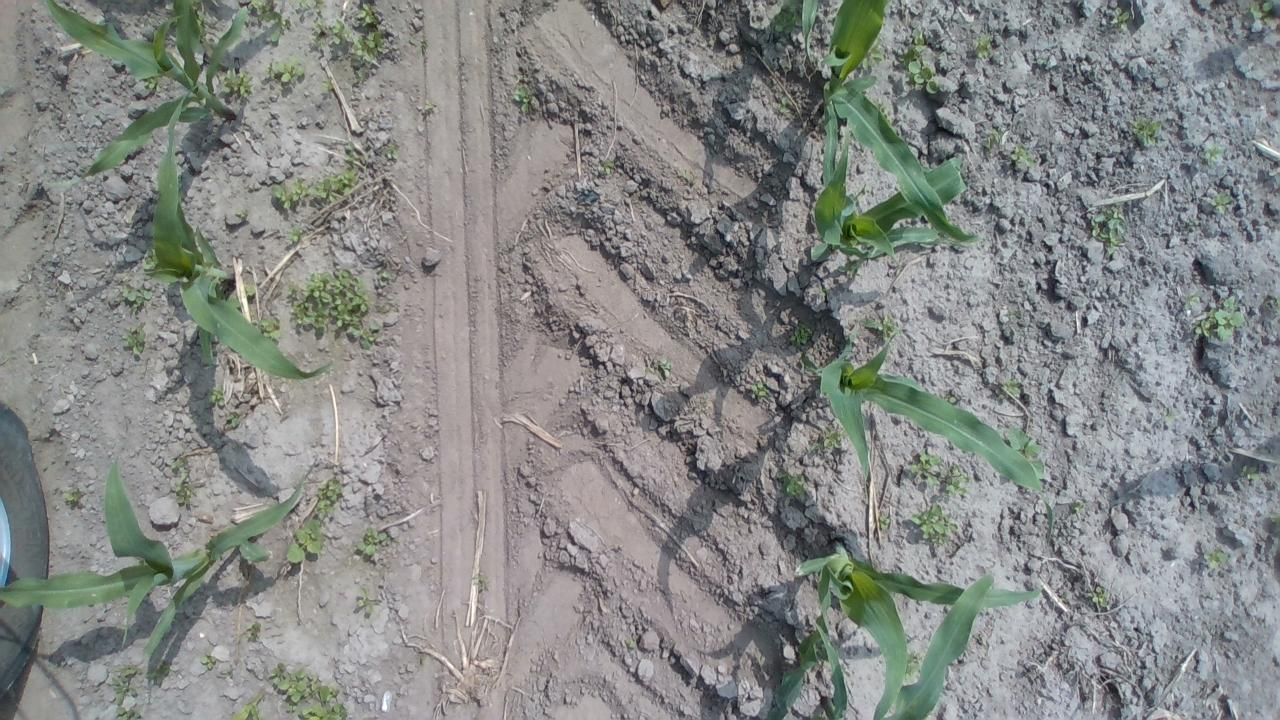Maize: (6, 448, 334, 712), (134, 95, 346, 390), (766, 537, 1062, 720), (801, 317, 1049, 504), (45, 1, 284, 188), (809, 2, 986, 245), (798, 144, 986, 258)
Weeds: (289, 268, 378, 352), (269, 170, 359, 210), (1182, 290, 1244, 347), (897, 28, 942, 96), (242, 0, 294, 48), (1002, 426, 1050, 478), (350, 28, 392, 84), (1089, 203, 1131, 251), (110, 662, 144, 720), (269, 664, 317, 704), (908, 505, 956, 543), (298, 686, 351, 720), (290, 520, 326, 569), (168, 454, 198, 512), (264, 55, 306, 92), (312, 474, 344, 518), (356, 525, 396, 560), (906, 450, 940, 490), (1128, 112, 1163, 148), (219, 68, 255, 102), (860, 315, 902, 344), (118, 324, 150, 362), (314, 18, 348, 52), (352, 1, 388, 32), (812, 422, 844, 456), (120, 285, 154, 317), (778, 468, 808, 503), (512, 80, 542, 114), (944, 460, 972, 496), (352, 586, 382, 617), (1198, 543, 1230, 572), (232, 693, 266, 719), (254, 316, 284, 344), (148, 661, 176, 688), (772, 4, 796, 35), (903, 649, 927, 680), (862, 40, 882, 76), (296, 0, 327, 22), (974, 32, 994, 66), (978, 126, 1004, 152), (1208, 190, 1234, 216), (747, 377, 772, 404), (1202, 139, 1225, 168), (1088, 584, 1112, 611), (998, 378, 1025, 402), (1007, 146, 1035, 168), (788, 325, 814, 348), (380, 137, 402, 164), (1250, 1, 1272, 28), (340, 137, 358, 169), (1108, 7, 1132, 31), (62, 482, 86, 506), (1158, 406, 1184, 428), (771, 89, 792, 116), (206, 385, 227, 410), (371, 266, 394, 288), (421, 96, 444, 118), (471, 572, 492, 596), (286, 224, 308, 246), (654, 356, 676, 378), (143, 72, 166, 92), (1066, 493, 1084, 518), (1242, 467, 1264, 487), (246, 620, 264, 644), (618, 633, 638, 654), (598, 154, 614, 179), (200, 648, 217, 671), (220, 411, 240, 430), (877, 510, 893, 530), (1266, 510, 1280, 532), (237, 204, 250, 224), (320, 77, 335, 93)
